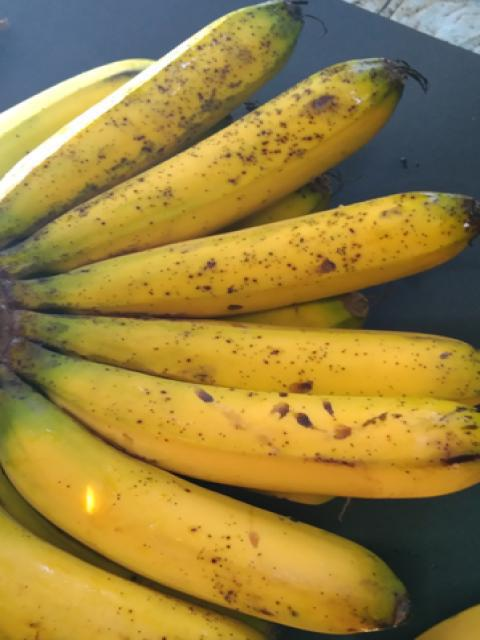ripe: (16, 398, 402, 623), (32, 43, 409, 238), (39, 175, 479, 304), (67, 354, 479, 482), (51, 293, 479, 385)
